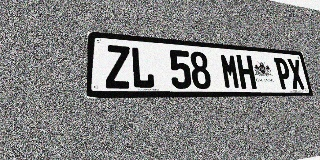5: (169, 50, 192, 89)
8: (189, 51, 212, 89)
H: (236, 55, 257, 89)
L: (130, 47, 155, 89)
M: (219, 53, 241, 89)
P: (273, 57, 293, 89)
X: (287, 58, 305, 89)
Z: (105, 45, 131, 89)
